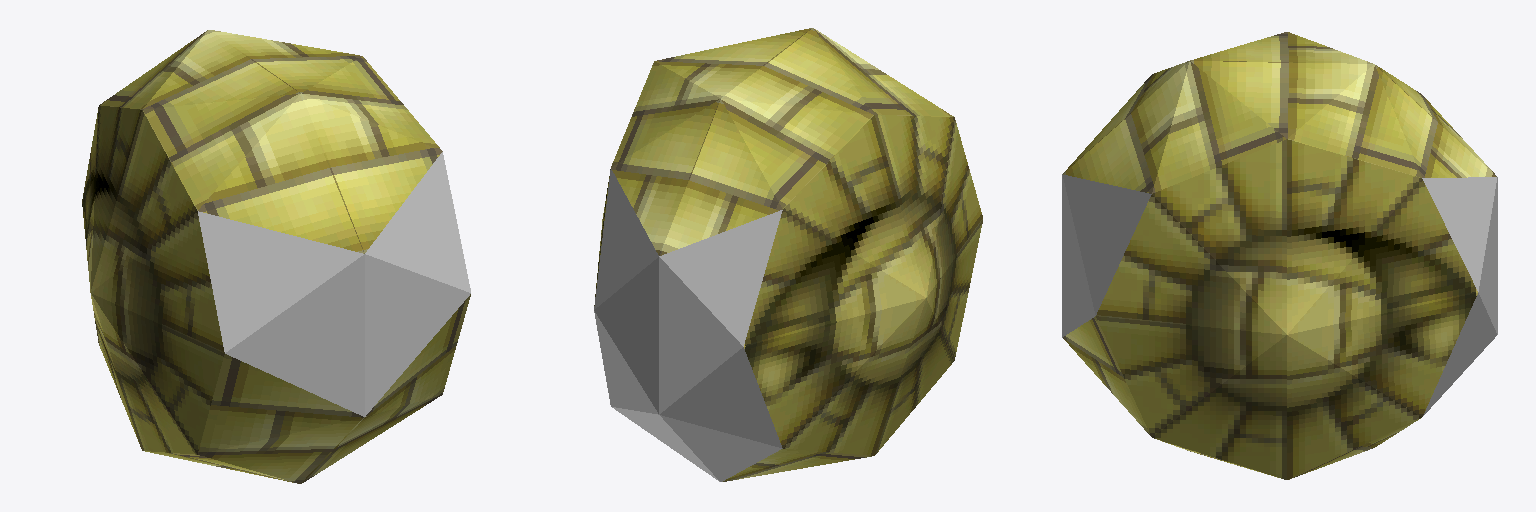
3 renders of one model, left to right at view 1: azimuth 30°, elevation 25°; view 2: azimuth 150°, elevation 25°; view 3: azimuth 270°, elevation 25°, orthographic.
Visible parts, largest first — view 1: mat_3, mat_4, mat_1, mat_0; view 2: mat_3, mat_0, mat_2, mat_1; view 3: mat_1, mat_0, mat_3, mat_4, mat_2.
Part boxes in pixels (x1,y1,x2,y2): mat_3: (100,30,470,483); mat_4: (198,152,470,416); mat_1: (91,110,224,454); mat_0: (82,105,141,446); mat_3: (611,28,953,481); mat_0: (594,115,925,455); mat_2: (594,169,782,481); mat_1: (875,115,982,454); mat_1: (1096,139,1286,479); mat_0: (1287,139,1477,479); mat_3: (1063,32,1496,479); mat_4: (1062,174,1151,337); mat_2: (1422,177,1497,415).
Size of the model in its own units: 3.56 by 4.11 by 4.14.
5 materials, 3 textured.